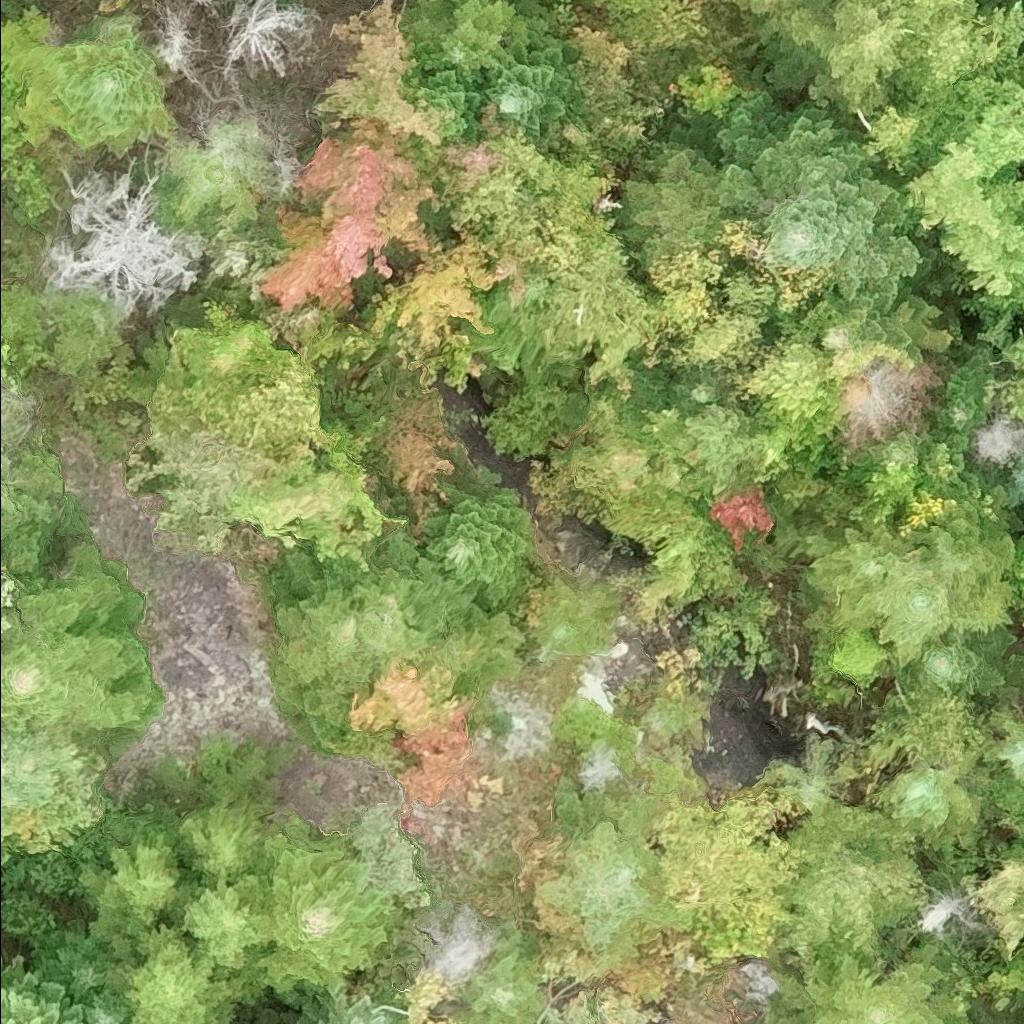crown: (714, 89, 926, 312), (258, 117, 442, 315), (828, 0, 1007, 178), (0, 537, 163, 732), (646, 787, 811, 963), (46, 140, 212, 314), (533, 774, 694, 951), (904, 76, 1023, 309), (253, 819, 397, 1000), (451, 120, 611, 276), (774, 800, 918, 968), (17, 10, 176, 159), (149, 340, 338, 464), (269, 550, 388, 738), (224, 454, 408, 571), (314, 0, 457, 147), (345, 651, 476, 807), (567, 381, 695, 537), (823, 669, 998, 783), (321, 527, 476, 655), (559, 8, 676, 174), (903, 482, 1023, 632), (369, 227, 513, 347), (619, 138, 741, 275), (775, 938, 971, 1023), (534, 233, 664, 359), (78, 830, 199, 965), (422, 466, 534, 610), (850, 558, 988, 667), (372, 389, 466, 535), (108, 919, 236, 1023), (753, 0, 876, 107), (177, 858, 269, 1001), (401, 0, 549, 86), (940, 0, 1023, 142), (480, 28, 585, 140), (845, 349, 953, 455), (806, 522, 915, 624), (158, 126, 259, 235), (817, 282, 956, 361), (875, 759, 981, 854), (198, 212, 292, 313), (345, 799, 429, 910), (164, 795, 268, 882), (609, 0, 749, 64), (666, 282, 764, 369), (218, 0, 322, 80), (0, 442, 65, 569), (646, 237, 729, 336), (909, 628, 1016, 704), (456, 934, 547, 1023), (719, 338, 829, 411), (175, 301, 273, 381), (822, 342, 920, 418), (420, 905, 504, 993), (760, 380, 837, 469), (27, 922, 115, 999), (961, 852, 1023, 960), (535, 576, 617, 654), (401, 62, 483, 140), (0, 952, 87, 1023), (749, 247, 837, 314), (937, 338, 995, 434), (151, 2, 210, 87), (709, 478, 776, 550), (677, 62, 752, 121), (859, 460, 925, 526), (0, 51, 31, 183), (587, 328, 644, 398), (916, 887, 992, 939), (826, 633, 889, 687), (296, 993, 404, 1023), (664, 363, 724, 415), (969, 412, 1023, 469), (716, 268, 775, 318), (984, 714, 1023, 785), (865, 429, 932, 469), (977, 955, 1023, 1012), (710, 217, 768, 261), (1001, 329, 1023, 425), (80, 986, 132, 1023), (1004, 532, 1023, 622), (593, 0, 664, 21), (994, 458, 1023, 507), (0, 563, 18, 627), (551, 1001, 602, 1023), (740, 0, 784, 13), (0, 338, 9, 371), (421, 0, 465, 5), (192, 0, 232, 5), (478, 0, 493, 3)
